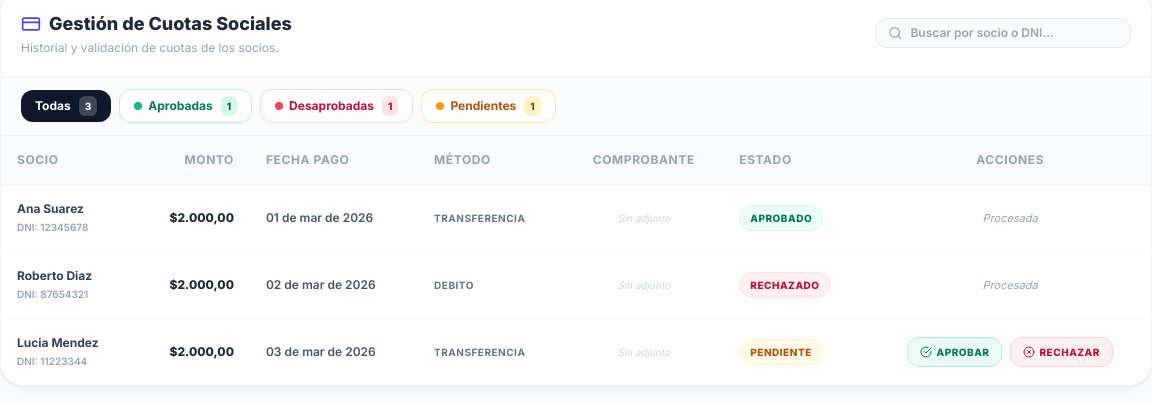
AdminCuotasTab - Vistas por estado › debería filtrar exclusivamente cuotas desaprobadas al seleccionar la pestaña Desaprobadas
Click the button "Desaprobadas 1": click(337, 106) [260, 89, 413, 123]
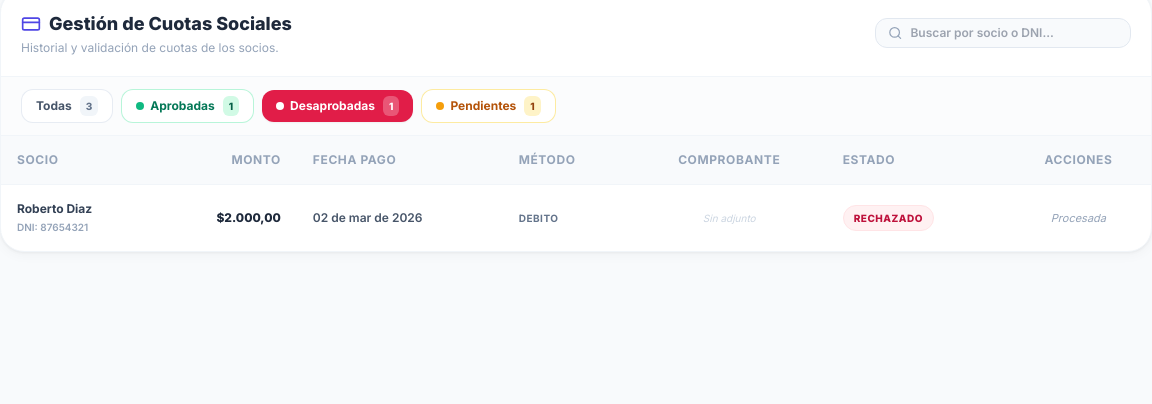
Expected: the text "Ana Suarez" is gone
Expected: the text "Lucia Mendez" is gone
